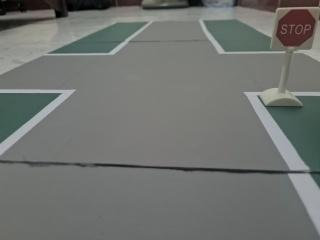stop: (270, 6, 319, 50)
